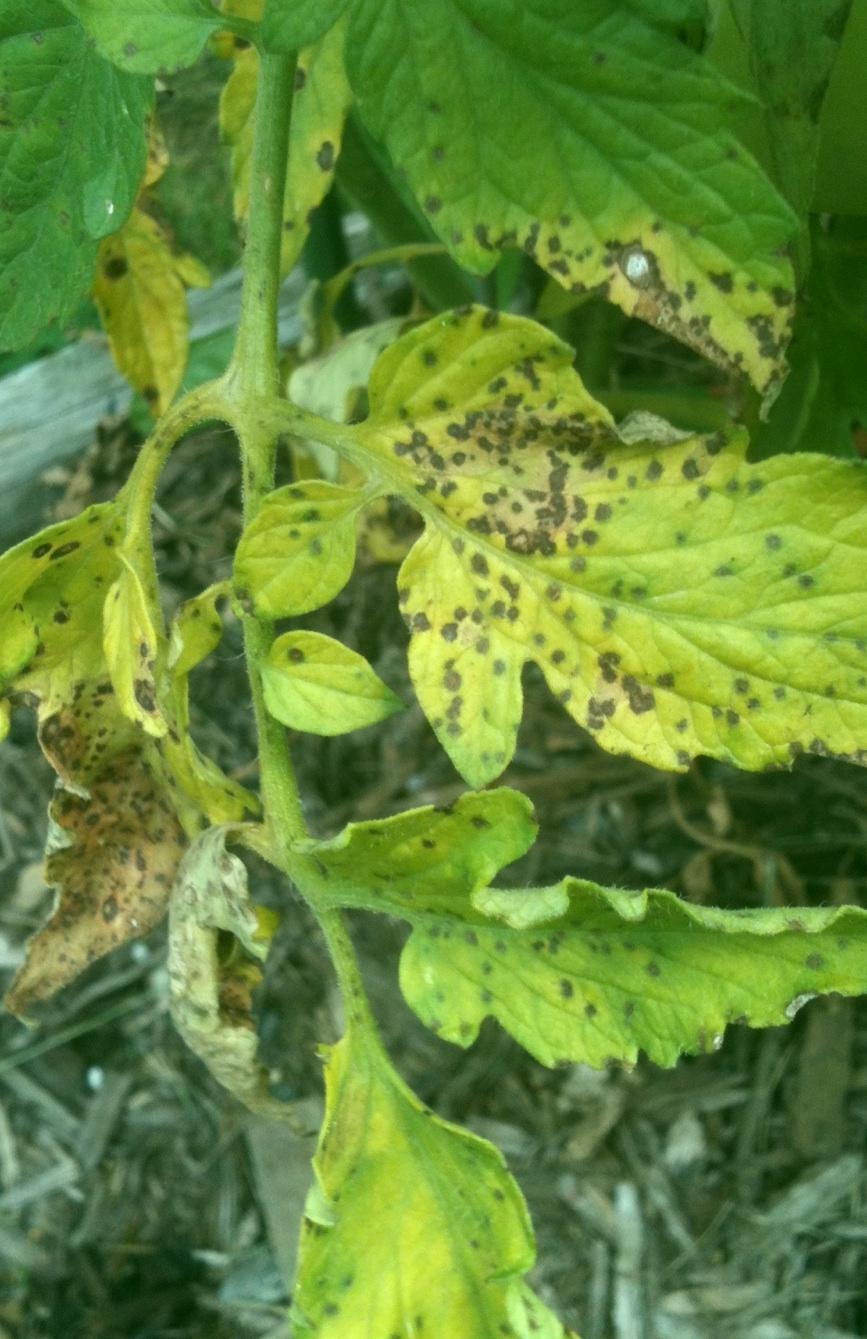Tomato Septoria leaf spot: (340, 313, 867, 809), (227, 0, 815, 360), (263, 751, 867, 1071), (0, 451, 187, 1084), (260, 1027, 576, 1339)
